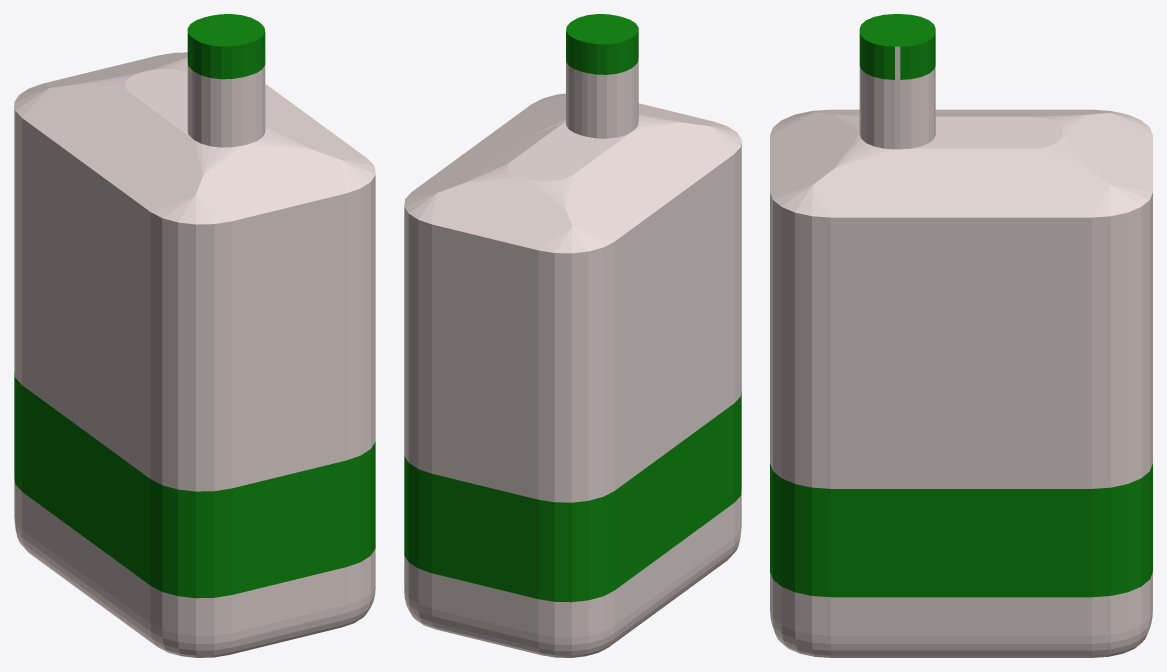
Rendered from semi_skimmed_4pt.glb.
3 renders of one model, left to right at view 1: azimuth 30°, elevation 25°; view 2: azimuth 150°, elevation 25°; view 3: azimuth 270°, elevation 25°, orthographic. The views are drawn at different scales.
Parts seen in each view (by area): view 1: Cube, Cube.001, Cube.002; view 2: Cube, Cube.001, Cube.002; view 3: Cube, Cube.001, Cube.002.
Boxes of the visible parts, box(x1,y1,x2,y2) form: Cube: box(14, 52, 375, 657); Cube.001: box(14, 372, 375, 598); Cube.002: box(187, 14, 265, 79); Cube: box(404, 58, 741, 657); Cube.001: box(404, 391, 741, 602); Cube.002: box(566, 14, 638, 74); Cube: box(770, 66, 1152, 657); Cube.001: box(770, 464, 1152, 597); Cube.002: box(859, 14, 935, 79).
Bounding box in the file's own units: 0.2 × 0.5 × 0.3.
